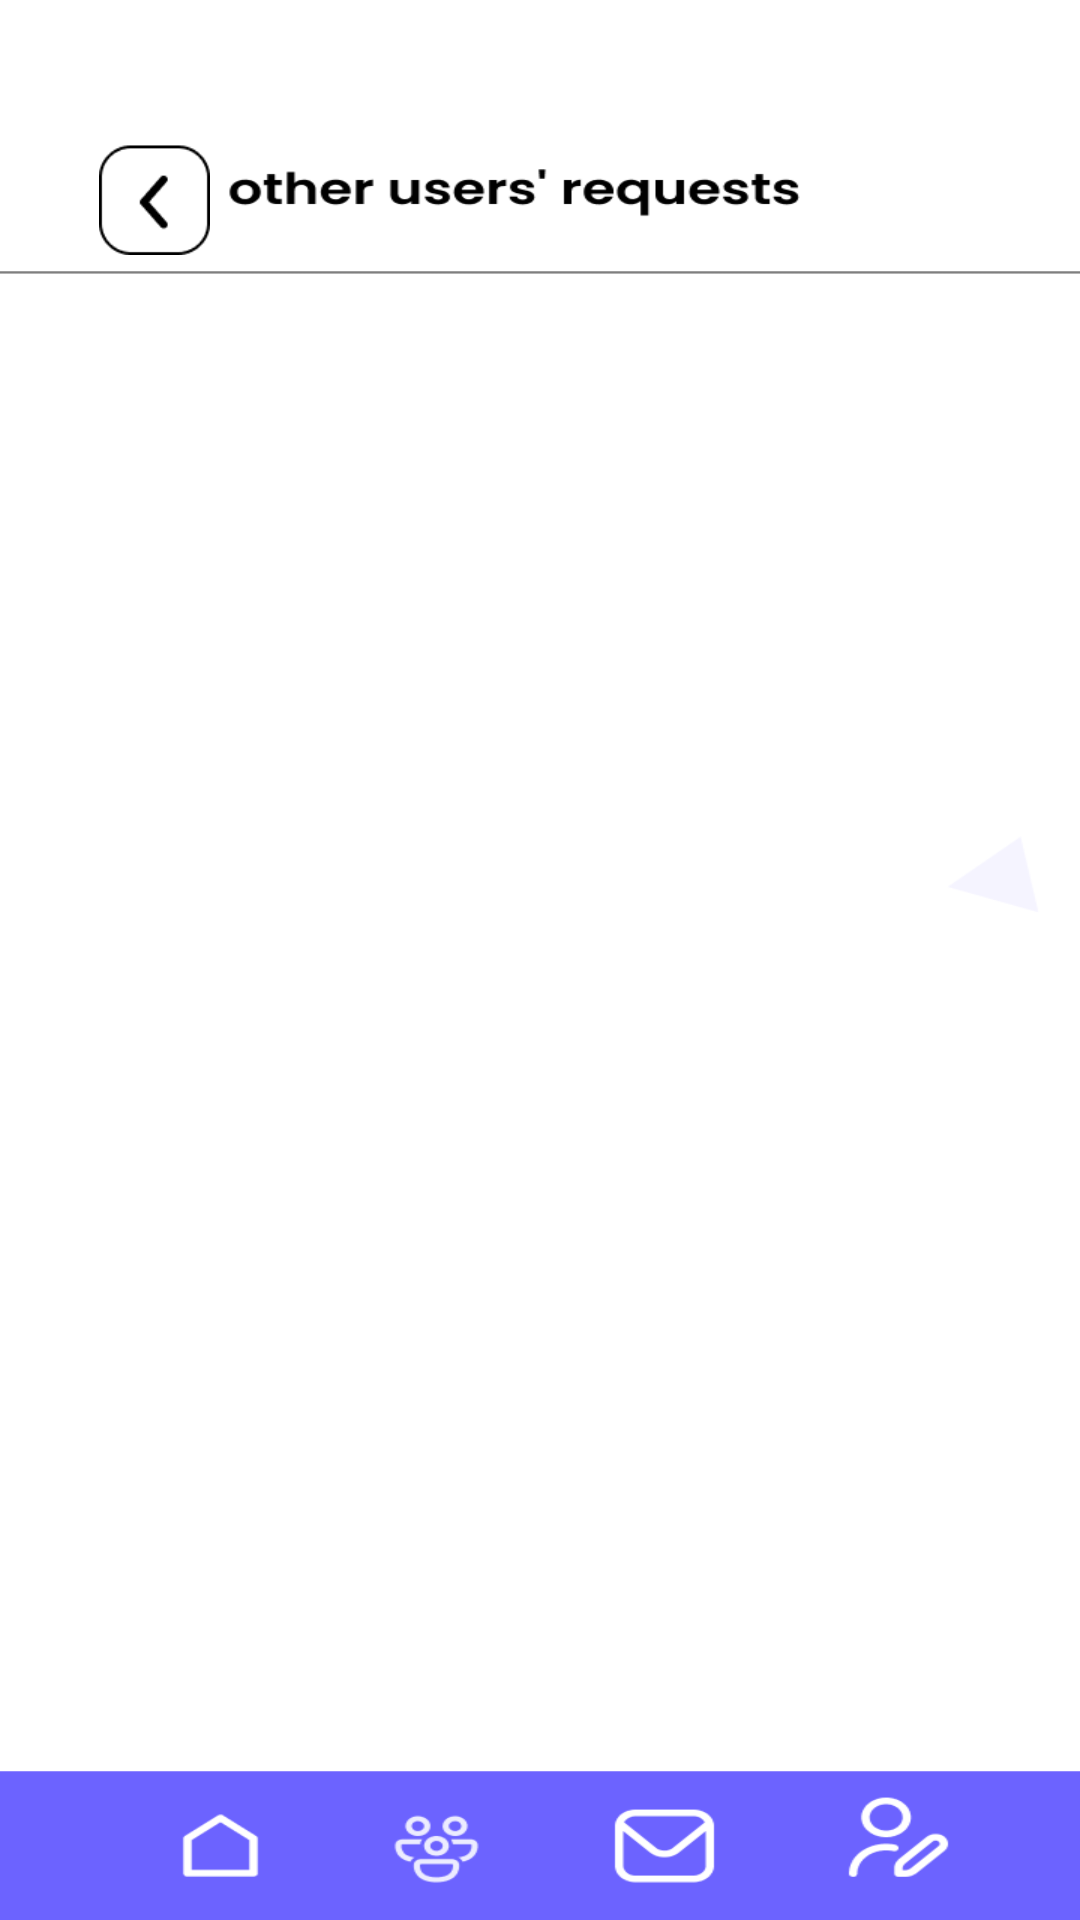

Icon click points for this 1080 × 1920 phone screenshot, format point (x, y):
qanda viewdetails finish: point (154, 200)
